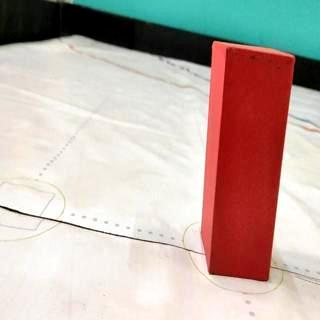redbox: (199, 40, 296, 282)
